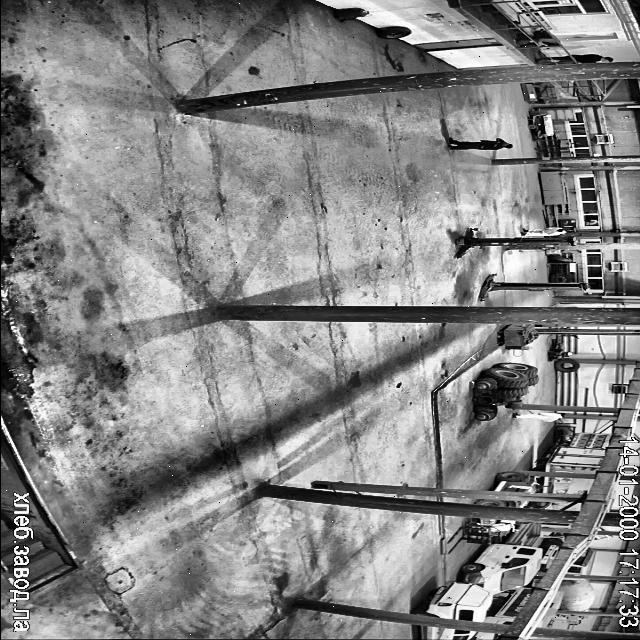class4: (535, 54, 612, 64), (448, 138, 512, 150), (516, 30, 556, 48), (512, 412, 564, 421), (522, 228, 565, 236)
class6: (474, 363, 538, 420)
class7: (461, 524, 541, 594), (533, 433, 612, 474), (412, 581, 492, 620), (484, 588, 532, 624), (464, 518, 527, 542), (558, 577, 594, 610), (494, 471, 541, 496), (532, 592, 560, 628), (540, 477, 594, 493), (420, 626, 474, 640), (567, 548, 595, 574), (476, 499, 551, 508), (540, 536, 563, 565), (476, 632, 499, 640), (552, 504, 580, 510), (596, 536, 610, 540), (523, 634, 530, 640), (572, 505, 579, 509), (612, 492, 614, 504), (604, 528, 612, 530), (555, 504, 558, 508)
tractor: (334, 8, 368, 21)
truck: (455, 228, 575, 257), (479, 274, 588, 300)
